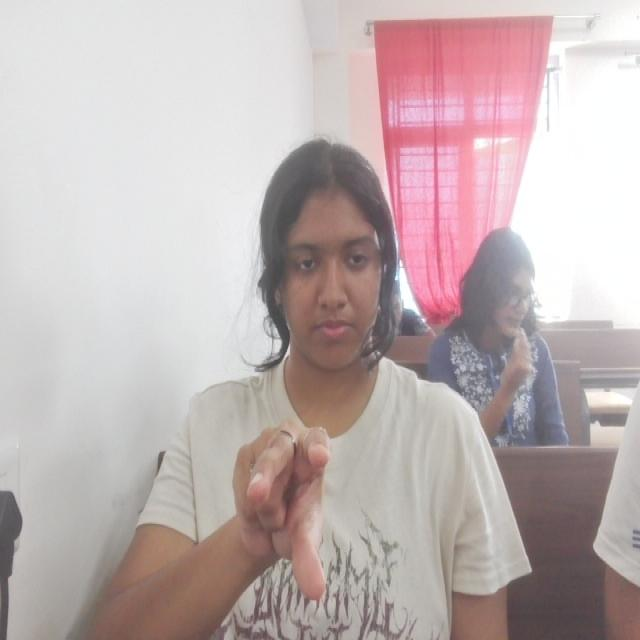no: (229, 418, 332, 603)
